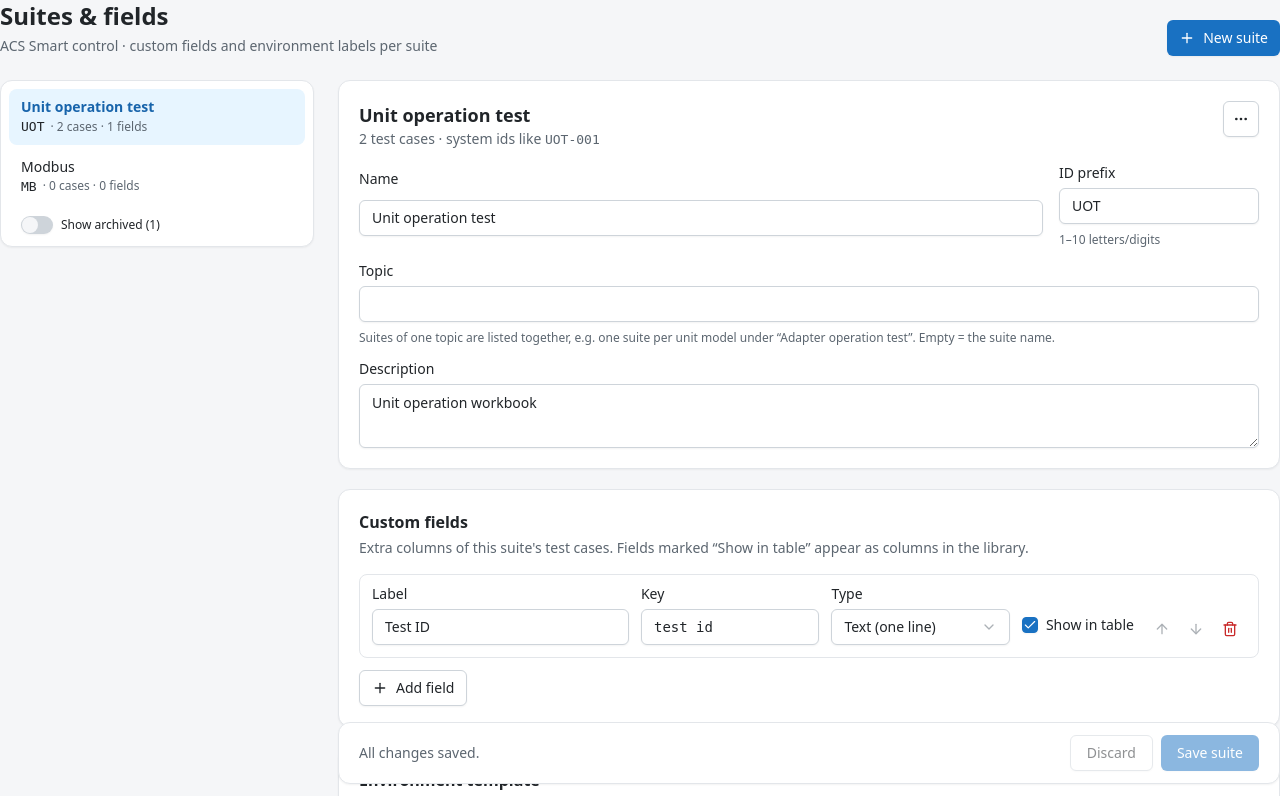
SuitesSettingsPage › keeps an edited prefix and shows a taken prefix at the field
Click the button "New suite" at (1224, 38), box [1167,20,1279,56]
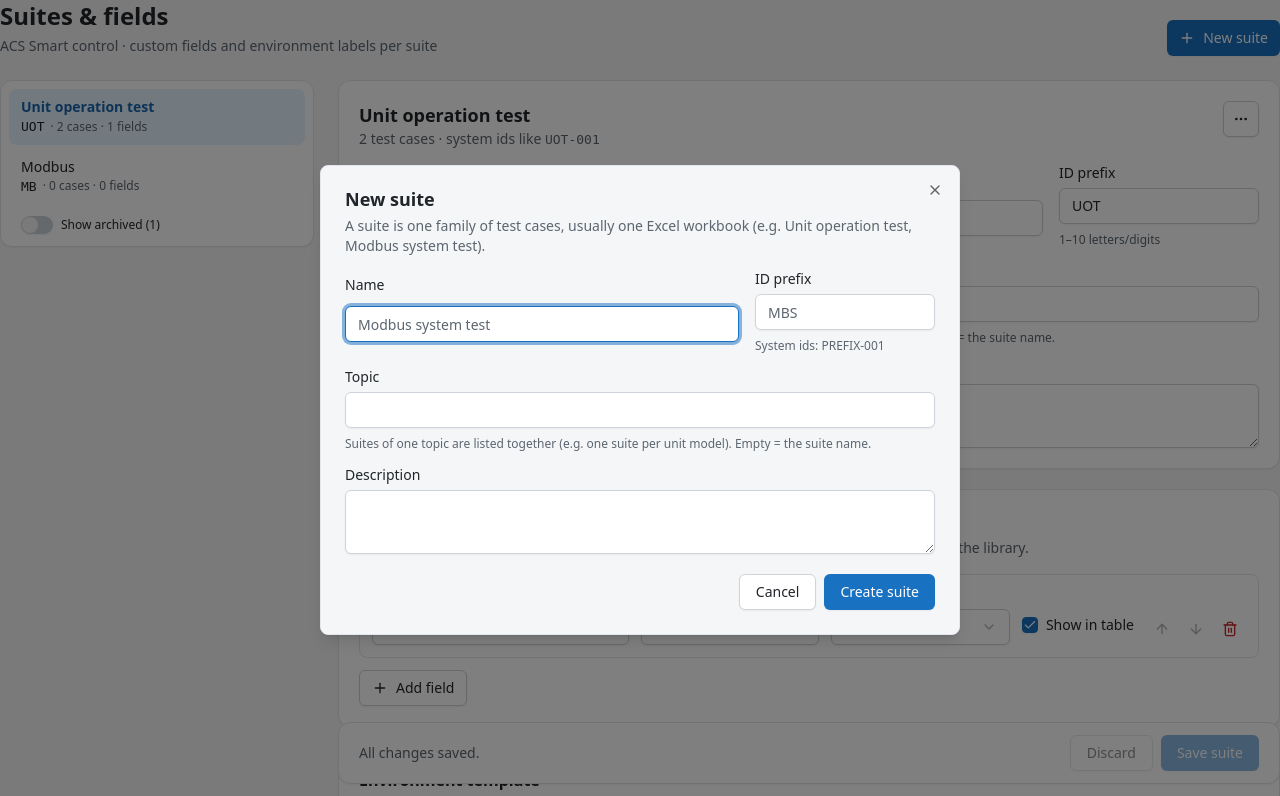
Type "uot" into the field labelled "ID prefix" at (845, 312), box [755,294,935,330]
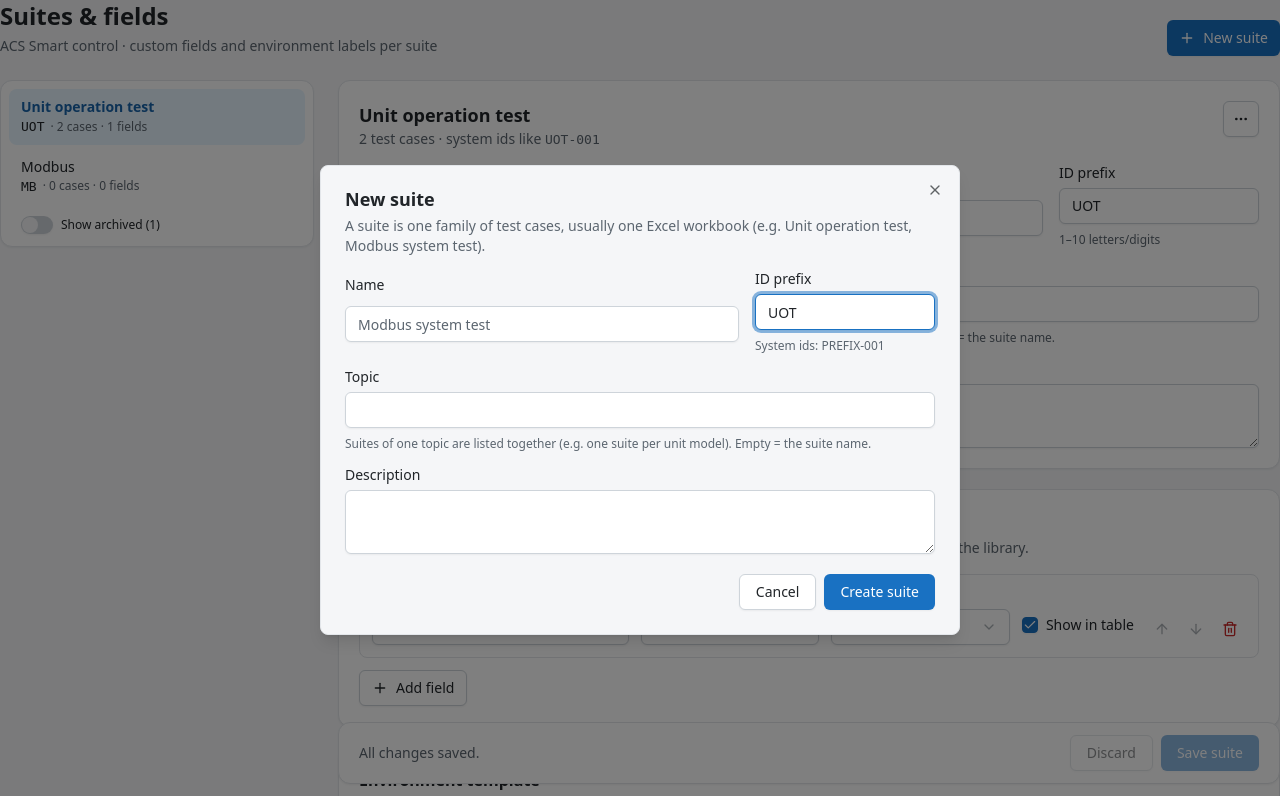
Type "Another unit test" into the field labelled "Name" at (542, 324), box [345,306,739,342]
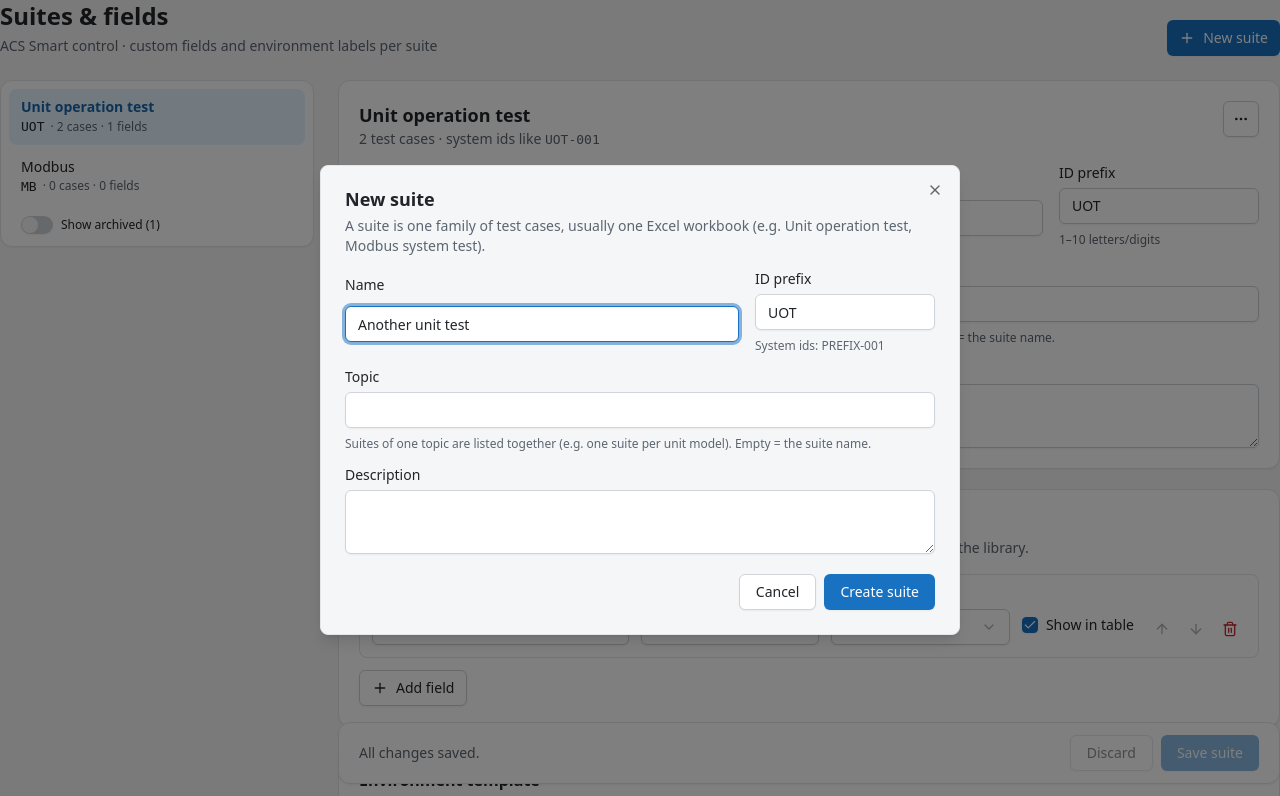
Click the button "Create suite" at (880, 592), box [824,574,935,610]
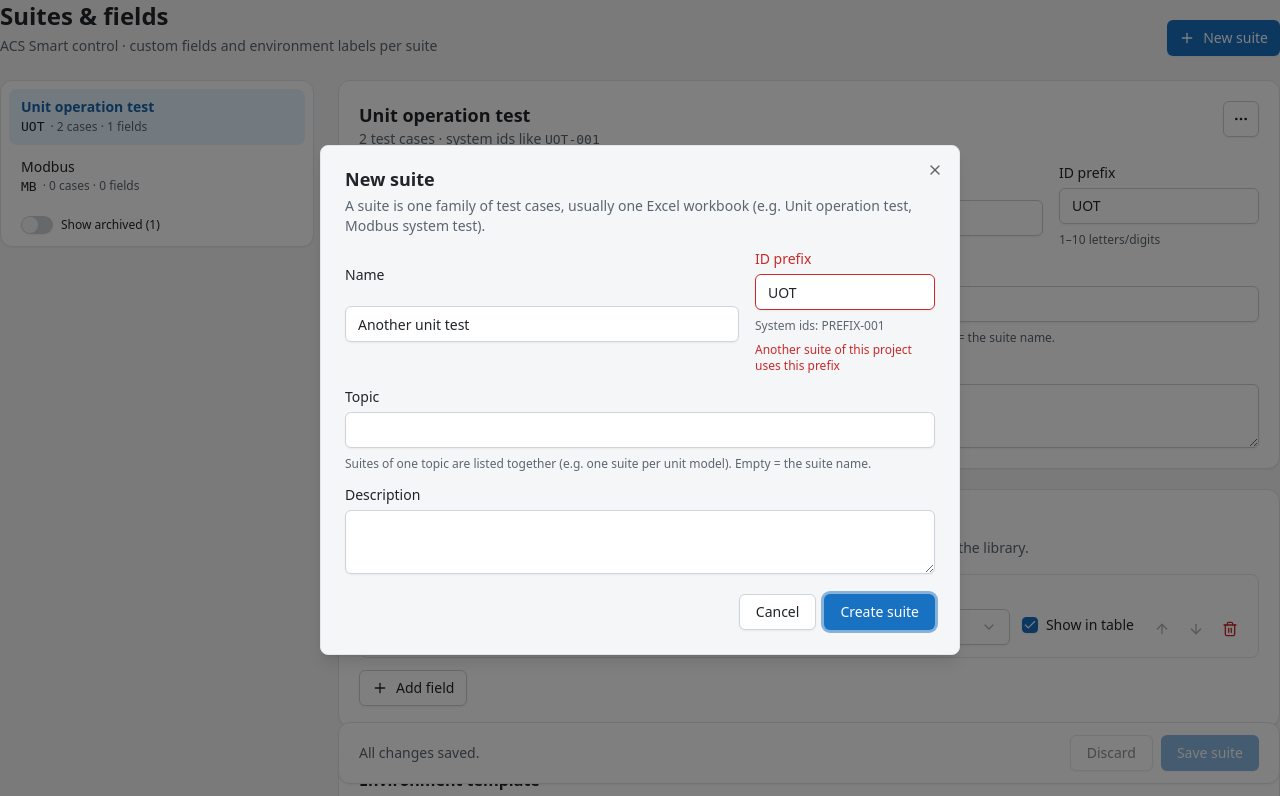
Check: the text "Another suite of this project uses this prefix" is shown, box [755,342,935,374]
